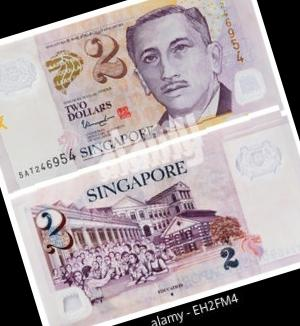2SingaporeDollar: (0, 0, 286, 208)
